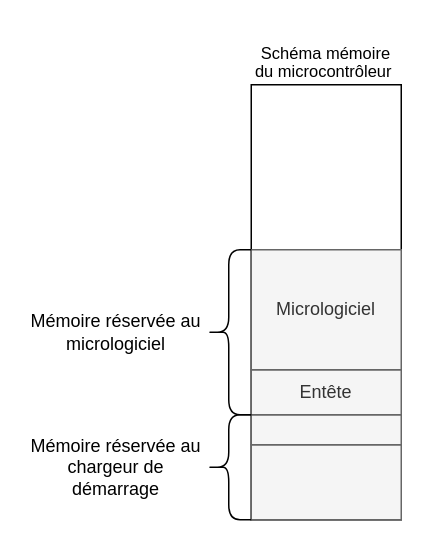
The diagram is 428 pixels wide and 546 high, and some of its shapes have lost their labels. Each missing label, with the box of its shape:
Chargeur de démarrage: (250, 443, 401, 520)
Métadonnées: (250, 413, 401, 445)
